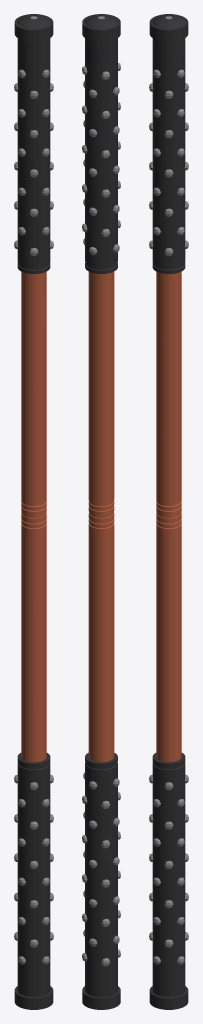
The model's file is BattleStaff.glb.
3 views of the same model, side by side, from view 1: azimuth 90°, elevation 25°; view 2: azimuth 150°, elevation 25°; view 3: azimuth 270°, elevation 25° (orthographic).
Visible parts, largest first — view 1: Battle Staff; view 2: Battle Staff; view 3: Battle Staff.
Part boxes in pixels (bbox=[...]): Battle Staff: bbox=[14, 14, 53, 1009]; Battle Staff: bbox=[82, 14, 120, 1009]; Battle Staff: bbox=[149, 14, 188, 1009].
Bounding box in the file's own units: 0.0664 × 1.82 × 0.0664.
Materials: 1 (1 with a texture image).
